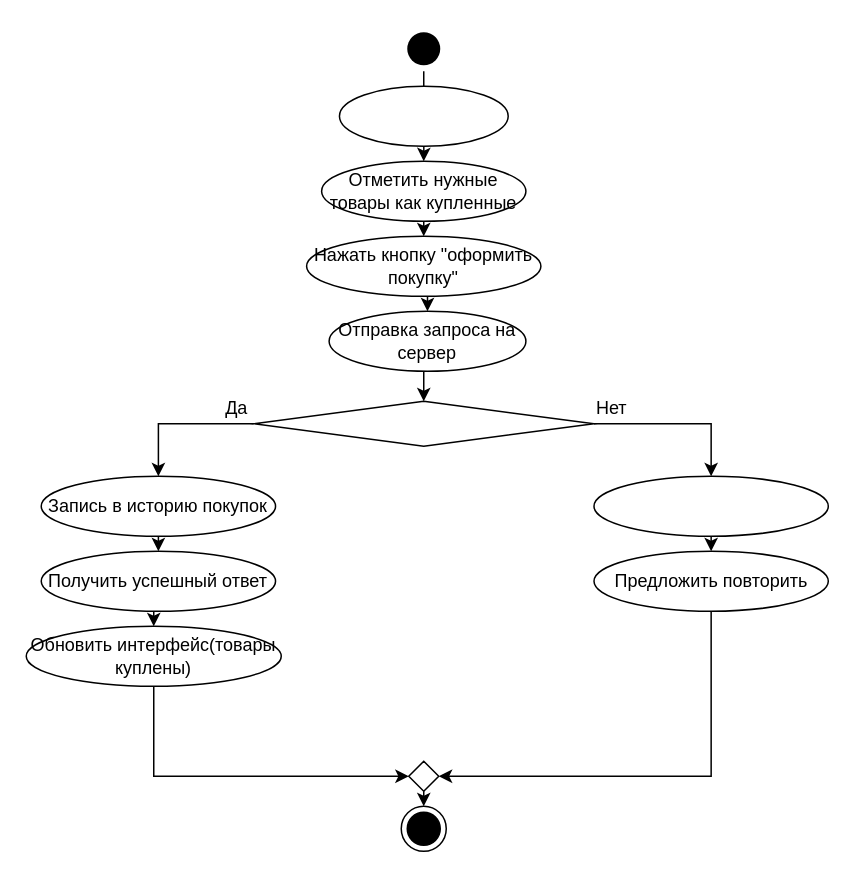
This 855x878 diagram has some shape labels left out. The box of each missing label's shape, as (x1, y1, x2, y2) in pixels:
Открыть список покупок: (338, 85, 508, 146)
Показать ошибку: (592, 475, 828, 536)
Успешное обновление в бд?: (252, 400, 594, 446)
